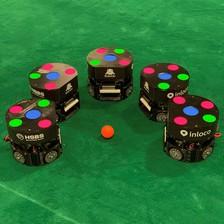ball: (97, 122, 113, 138)
robot: (3, 96, 66, 168), (162, 94, 220, 163), (84, 43, 134, 103), (137, 59, 168, 122), (56, 59, 82, 122)
